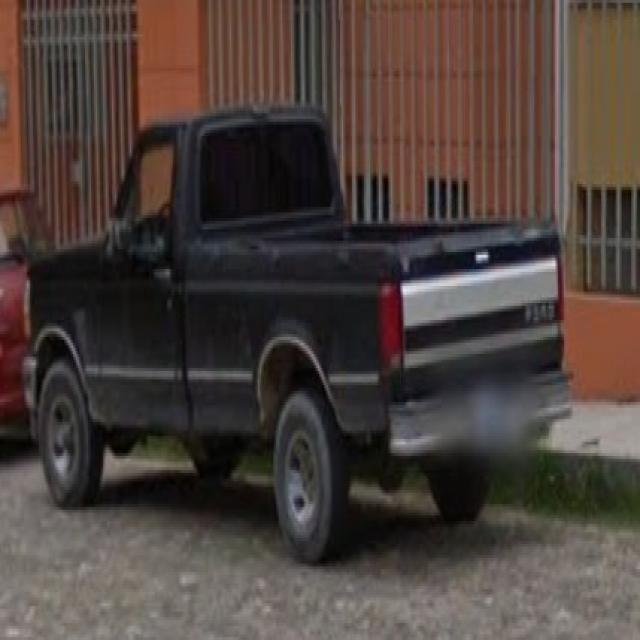Car: (36, 113, 566, 530)
